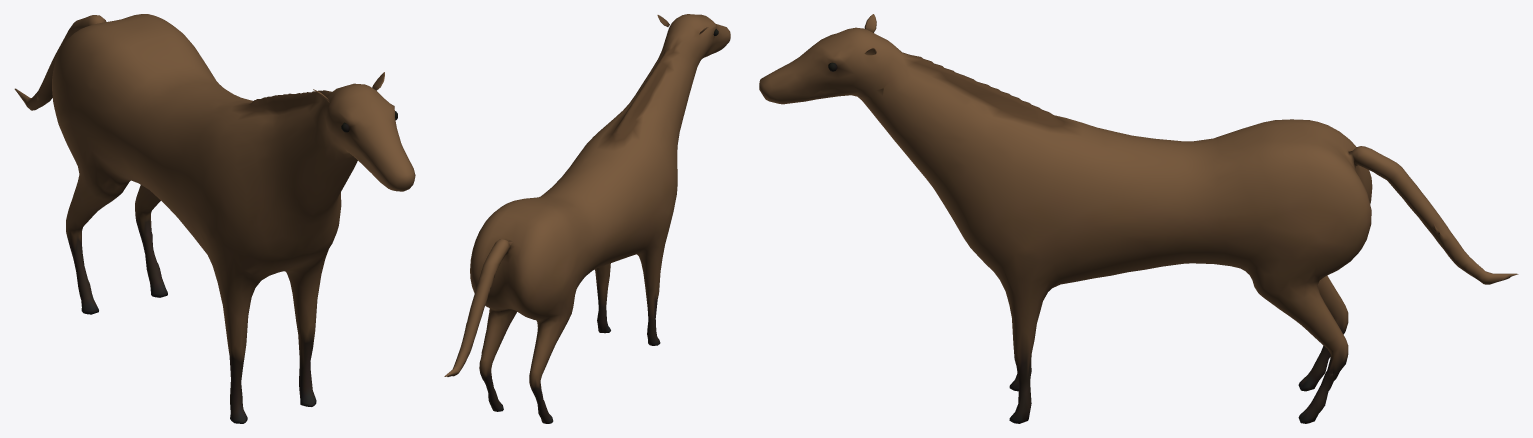
File: pferd.glb
3 renders of one model, left to right at view 1: azimuth 30°, elevation 25°; view 2: azimuth 150°, elevation 25°; view 3: azimuth 270°, elevation 25°, orthographic. The views are drawn at different scales.
Visible parts, largest first — view 1: lack; view 2: lack; view 3: lack.
Part boxes in pixels (x1=…): lack: x1=14, y1=14, x2=415, y2=423; lack: x1=444, y1=14, x2=730, y2=423; lack: x1=759, y1=14, x2=1518, y2=423.
Size of the model in its own units: 0.7229 by 2.19 by 4.01.
